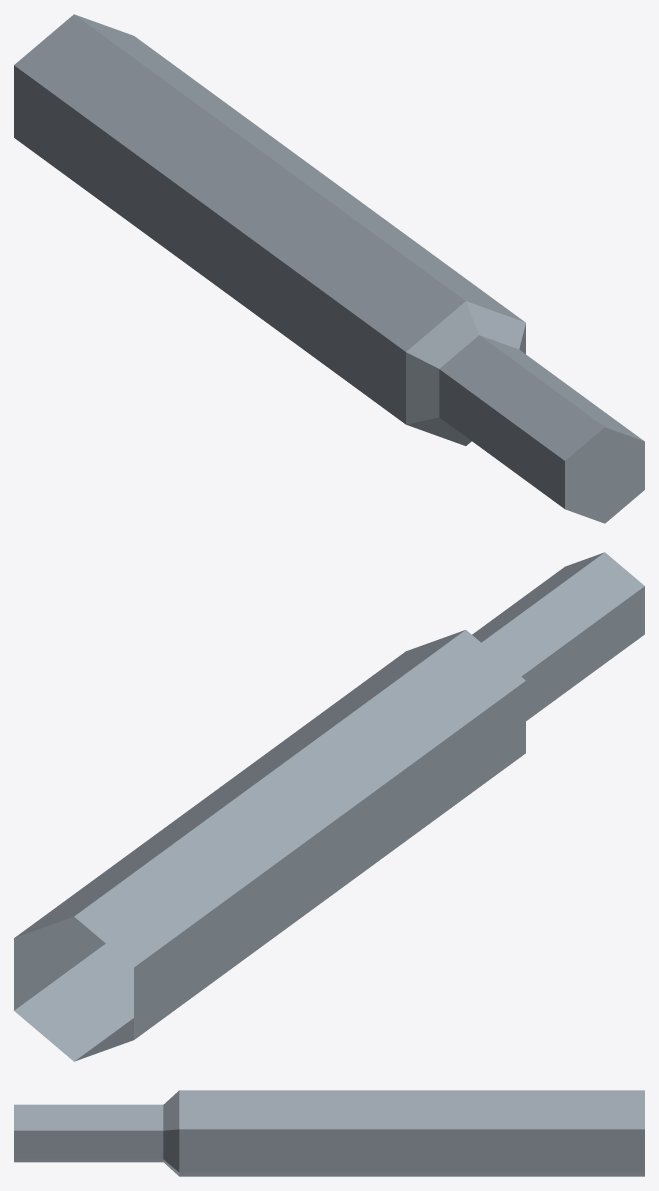
File: SM_Prop_AirDrill_01_DrillBit.fbx
3 renders of one model, top to bottom at view 1: azimuth 30°, elevation 25°; view 2: azimuth 150°, elevation 25°; view 3: azimuth 270°, elevation 25°, orthographic. The views are drawn at different scales.
Visible parts, largest first — view 1: SM_Prop_AirDrill_01_DrillBit; view 2: SM_Prop_AirDrill_01_DrillBit; view 3: SM_Prop_AirDrill_01_DrillBit.
Part boxes in pixels (left/top/right/bottom): SM_Prop_AirDrill_01_DrillBit: left=14, top=14, right=644, bottom=523; SM_Prop_AirDrill_01_DrillBit: left=14, top=552, right=644, bottom=1061; SM_Prop_AirDrill_01_DrillBit: left=14, top=1090, right=644, bottom=1176.
Bounding box in the file's own units: 2.17 × 2.51 × 16.62.
